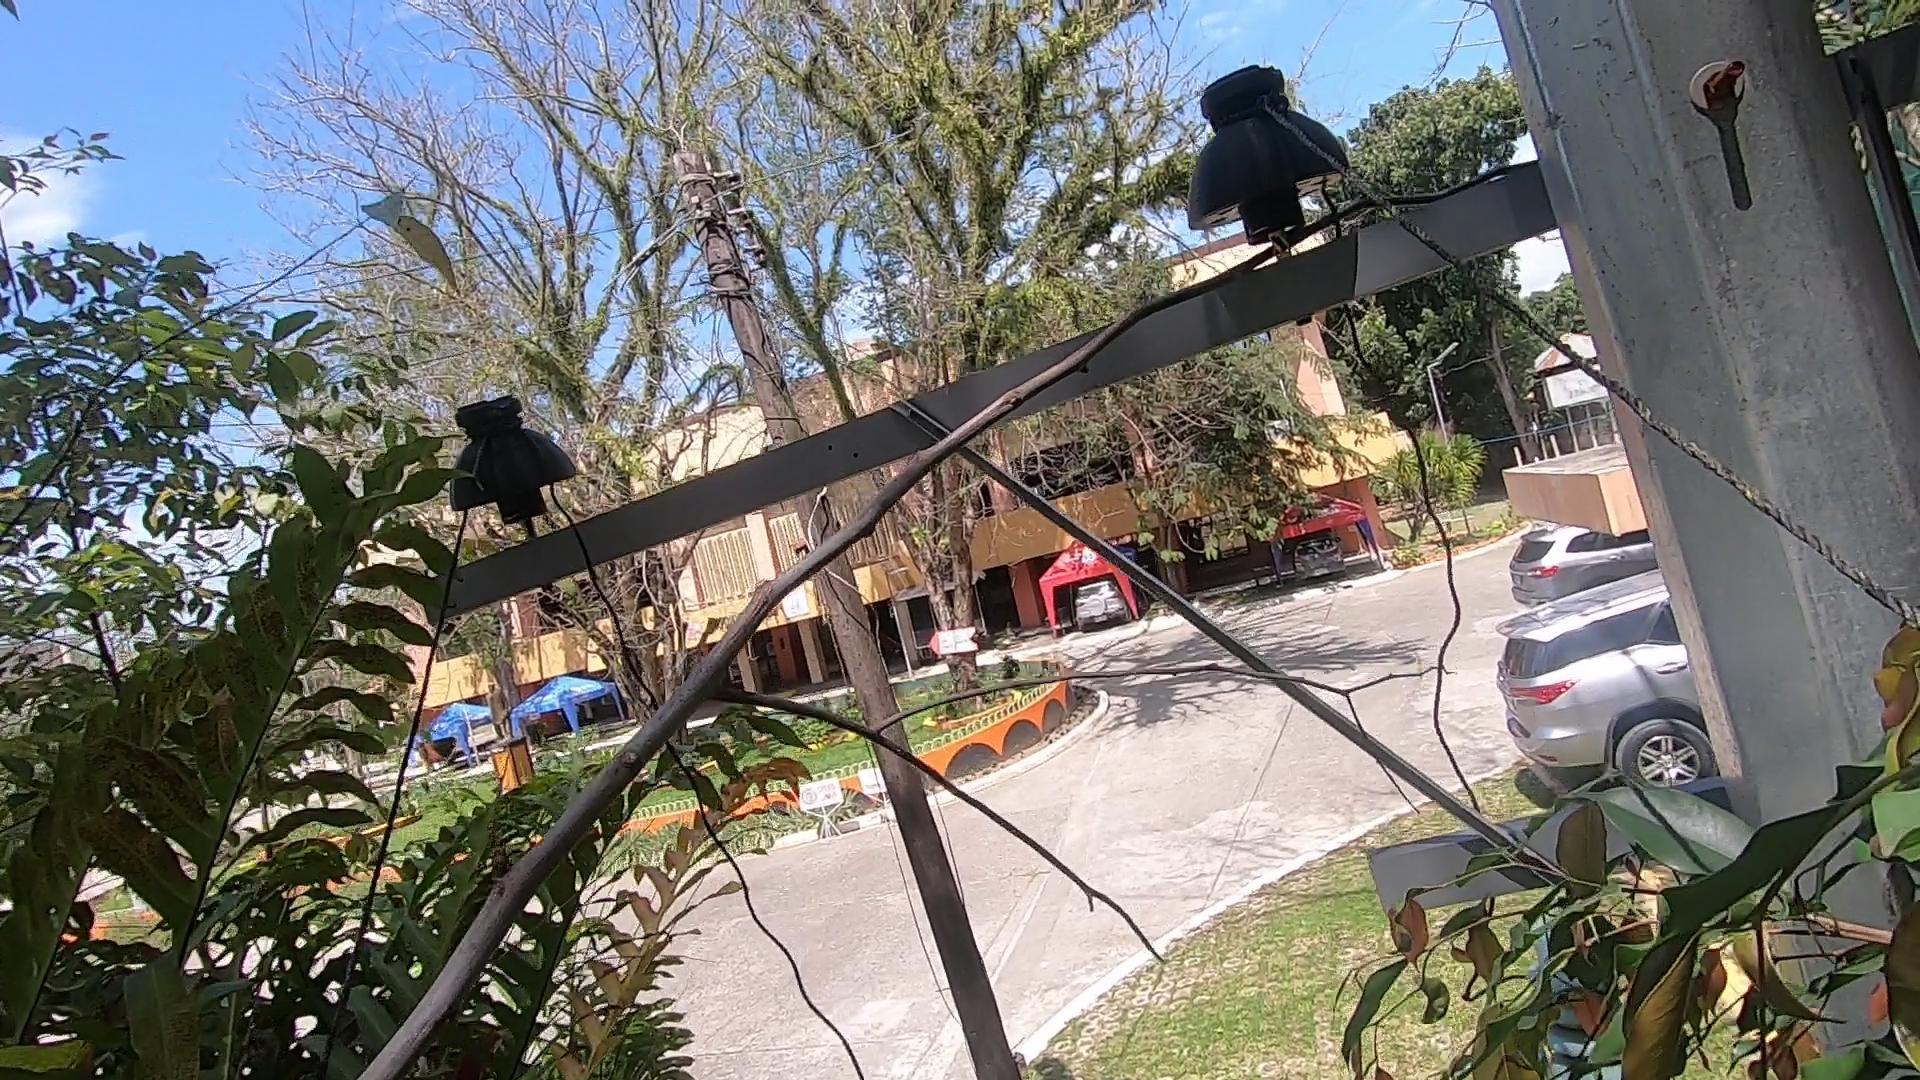branch with leaves: (1327, 770, 1813, 1080)
tree branch: (293, 208, 1560, 1080)
